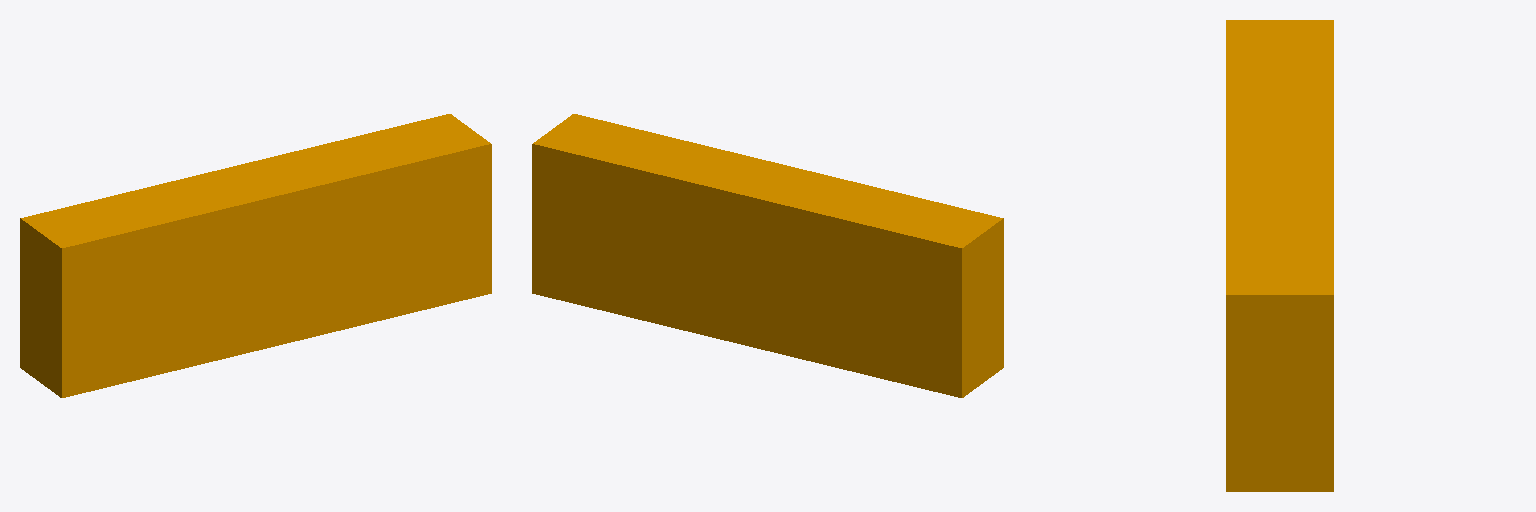
robot.urdf — multipleshapes:
<?xml version="1.0"?>
<robot name="multipleshapes">
  <link name="base_link">
    <visual>
      <geometry>
        <box size="0.6 0.1 0.2"/>
      </geometry>
    </visual>
  </link>
</robot>

--- Render facts (derived) ---
Views: 3 orthographic renders of the robot side by side, from view 1: azimuth 30°, elevation 25°; view 2: azimuth 150°, elevation 25°; view 3: azimuth 270°, elevation 25°.
Model multipleshapes with 1 links and 0 joints (none), rooted at base_link, posed all joints at 0.
Links seen in each view (by area): view 1: base_link; view 2: base_link; view 3: base_link.
Link boxes in pixels (x1=…): base_link: x1=20, y1=114, x2=491, y2=397; base_link: x1=532, y1=114, x2=1003, y2=397; base_link: x1=1226, y1=20, x2=1333, y2=491.
Size in the robot's own frame: 0.6 by 0.1 by 0.2 metres.
Geometry: primitives only (box / cylinder / sphere), no mesh files.